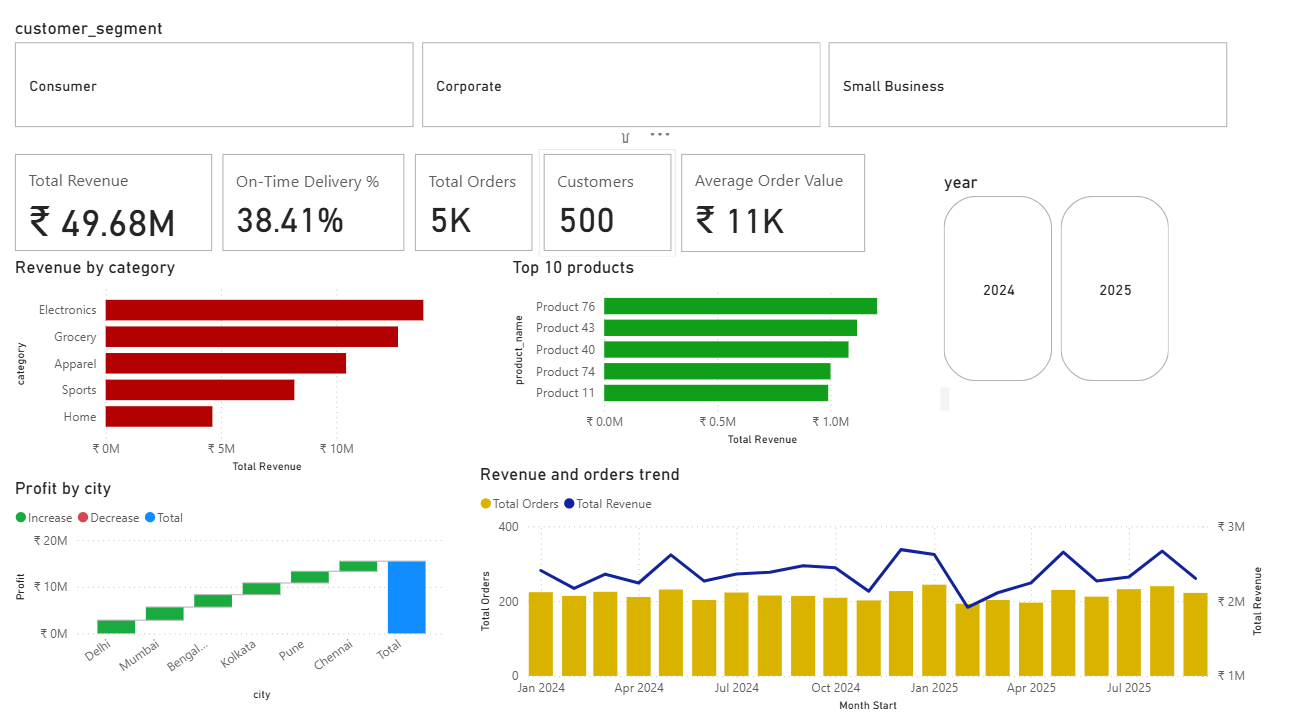

Layout of this report page (visuals, bound fields, positions):
{"tool":"powerbi","page":{"name":"Executive Overview","canvas":[1280,720],"ordinal":0},"visuals":[{"type":"cardVisual","fields":{"Data":["_Measures.Total Revenue"]},"box":[10,156.7,203.3,105],"z":0},{"type":"cardVisual","fields":{"Data":["_Measures.Total Orders"]},"box":[401.7,156.7,125,105],"z":1000},{"type":"cardVisual","fields":{"Data":["_Measures.Customers"]},"box":[526.7,156.7,135,105],"z":2000},{"type":"cardVisual","fields":{"Data":["_Measures.Average Order Value"]},"box":[661.6,156.5,190.8,106.4],"z":3000},{"type":"cardVisual","fields":{"Data":["_Measures.On-Time Delivery %"]},"box":[213.3,156.7,188.3,105],"z":4000},{"type":"lineClusteredColumnComboChart","title":"Revenue and orders trend","fields":{"Category":["dim_date.Month Start"],"Y":["_Measures.Total Orders"],"Y2":["_Measures.Total Revenue"]},"box":[464.5,464.5,776.6,247.3],"z":5000},{"type":"clusteredBarChart","title":"Top 10 products","fields":{"Category":["dim_product.product_name"],"Y":["_Measures.Total Revenue"]},"box":[496.7,261.7,436.7,190],"z":6000},{"type":"clusteredBarChart","title":"Revenue by category","fields":{"Category":["dim_product.category"],"Y":["_Measures.Total Revenue"]},"box":[10,261.7,431.7,216.7],"z":7000},{"type":"advancedSlicerVisual","fields":{"Values":["dim_customer.customer_segment"]},"box":[9.8,28.1,1197.2,112.5],"z":9000},{"type":"advancedSlicerVisual","fields":{"Values":["dim_date.year"]},"box":[918.4,177.9,346.8,211.1],"z":10000},{"type":"waterfallChart","fields":{"Category":["dim_customer.city"],"Y":["_Measures.Profit"]},"box":[10,478.3,431.7,223.3],"z":11000}]}

Visuals, with their boxes in screenshot pixels (x1, y1, x2, y2), scaled from the page's 1280x720 canvas onto the 1304x722 screenshot:
cardVisual - _Measures.Total Revenue: region(10, 157, 217, 262)
cardVisual - _Measures.Total Orders: region(409, 157, 537, 262)
cardVisual - _Measures.Customers: region(537, 157, 674, 262)
cardVisual - _Measures.Average Order Value: region(674, 157, 868, 264)
cardVisual - _Measures.On-Time Delivery %: region(217, 157, 409, 262)
"Revenue and orders trend" lineClusteredColumnComboChart: region(473, 466, 1264, 714)
"Top 10 products" clusteredBarChart: region(506, 262, 951, 453)
"Revenue by category" clusteredBarChart: region(10, 262, 450, 480)
advancedSlicerVisual - dim_customer.customer_segment: region(10, 28, 1230, 141)
advancedSlicerVisual - dim_date.year: region(936, 178, 1289, 390)
waterfallChart - dim_customer.city x _Measures.Profit: region(10, 480, 450, 704)
